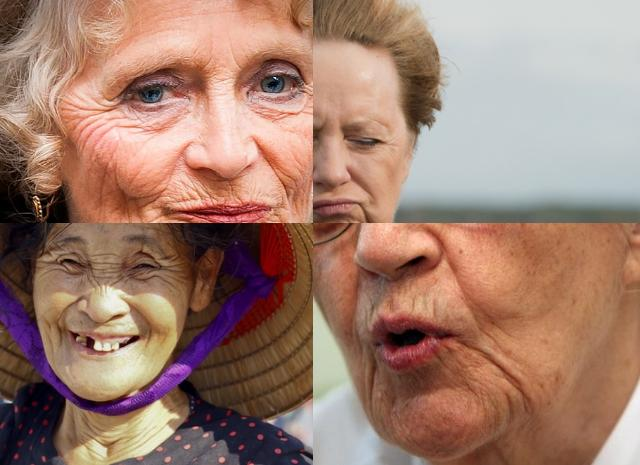bunny_line: (86, 271, 106, 293)
crows_feet: (78, 88, 120, 134), (160, 257, 180, 287), (40, 249, 56, 273), (380, 136, 398, 154), (305, 85, 313, 122)
forehead: (194, 5, 242, 16)
frown_line: (94, 260, 120, 280), (207, 70, 230, 90), (94, 249, 120, 257)
gummy_smile: (254, 141, 288, 190), (57, 291, 83, 323), (442, 245, 462, 286), (131, 302, 155, 334), (167, 149, 185, 183), (346, 168, 369, 192), (313, 165, 317, 192)
masseter: (120, 178, 156, 208), (96, 156, 112, 205), (290, 166, 306, 204), (39, 316, 55, 350)
sad_smile: (468, 339, 534, 395), (362, 360, 380, 408), (359, 197, 379, 223), (271, 207, 289, 223), (55, 326, 65, 354), (148, 213, 162, 223)
smoker_lines: (194, 182, 243, 204), (426, 298, 442, 321), (407, 294, 418, 314), (366, 302, 376, 324)
